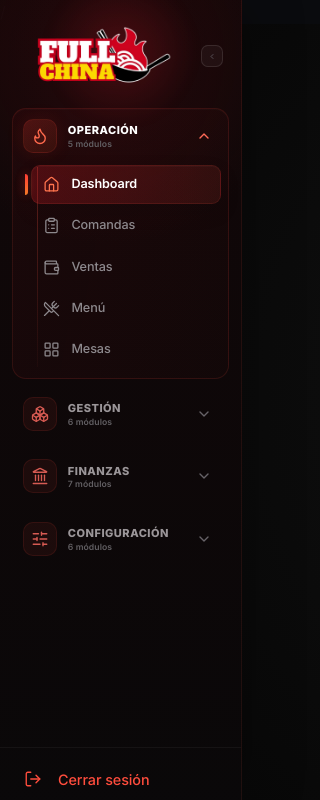
it: Sidebar › despliega cualquier grupo sin redirigir al pulsar su encabezado
The width and height of the screenshot is (320, 800).
Click the button "Finanzas 7 módulos" at [120, 476], box [13,450,228,504]
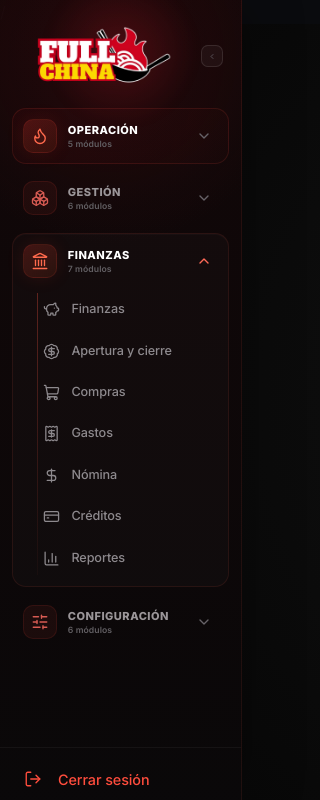
Expected: the button "Finanzas 7 módulos" is expanded, [13,234,228,288]
Expected: the link "Finanzas" is shown, [43,301,125,318]
